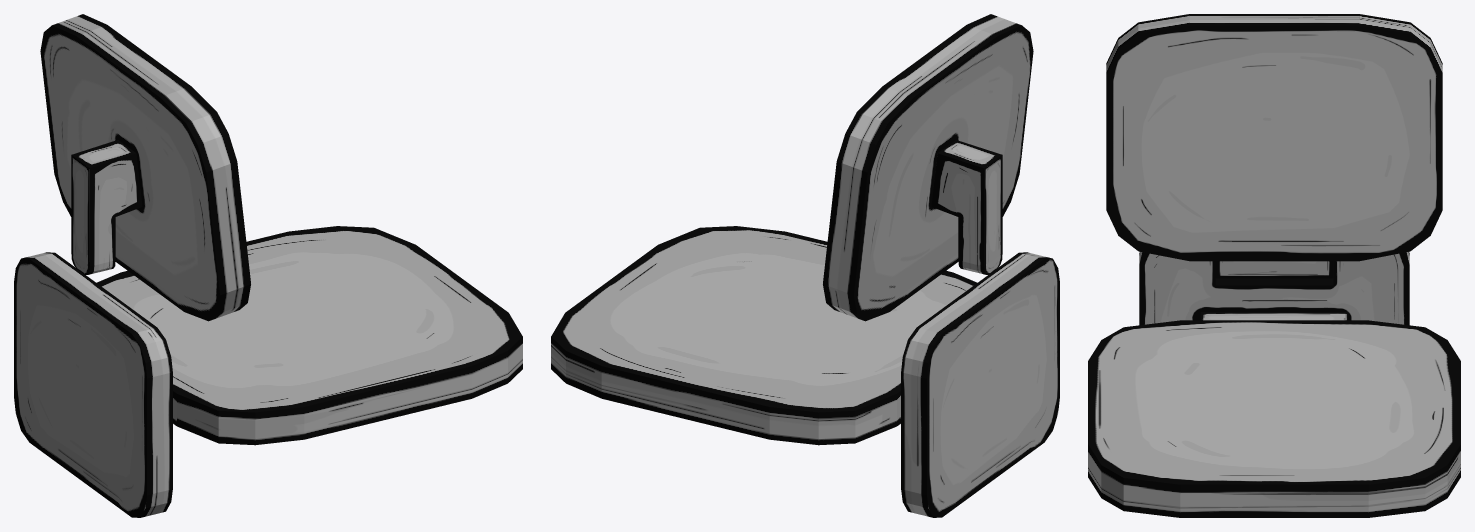
File: chair.fbx
The picture shows the model from 3 angles, left to right: view 1: azimuth 30°, elevation 25°; view 2: azimuth 150°, elevation 25°; view 3: azimuth 270°, elevation 25°; orthographic projection.
Parts seen in each view (by area): view 1: chair; view 2: chair; view 3: chair.
Boxes of the visible parts, x1,y1,x2,y2 form: chair: [14, 14, 522, 517]; chair: [551, 14, 1059, 517]; chair: [1088, 14, 1460, 517].
Size of the model in its own units: 193 by 197 by 161.
